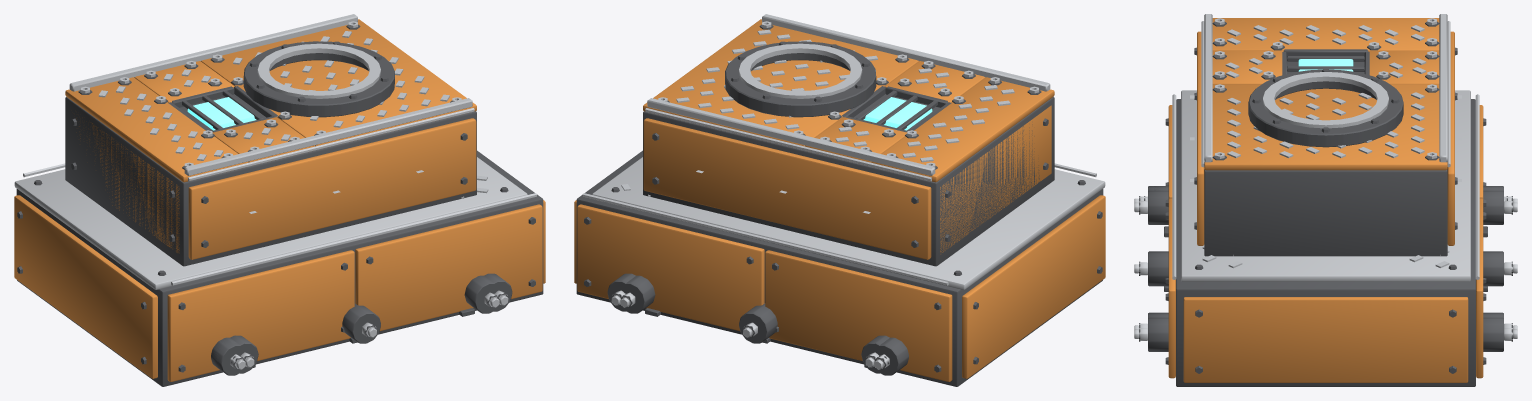
The model's file is tall_tank.glb.
3 views of the same model, side by side, from view 1: azimuth 30°, elevation 25°; view 2: azimuth 150°, elevation 25°; view 3: azimuth 270°, elevation 25° (orthographic). The views are drawn at different scales.
Visible parts, largest first — view 1: body; view 2: body; view 3: body.
Part boxes in pixels (x1,y1,x2,y2): body: (14,14,545,386); body: (574,14,1105,386); body: (1134,14,1517,386).
Size of the model in its own units: 0.911 by 0.455 by 0.74.
